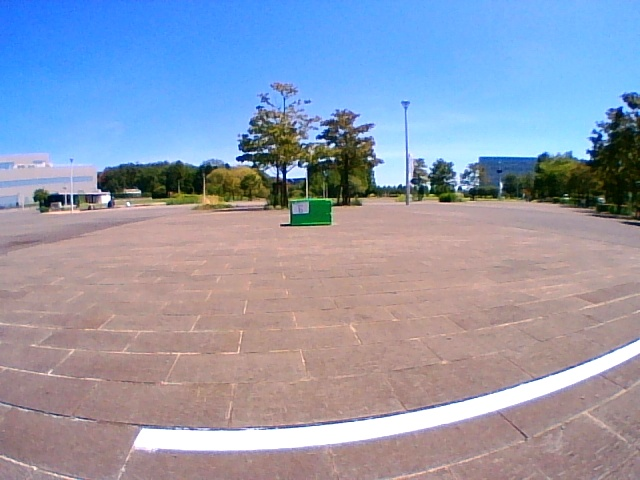green_box: (290, 198, 331, 225)
tag: (292, 202, 308, 213)
